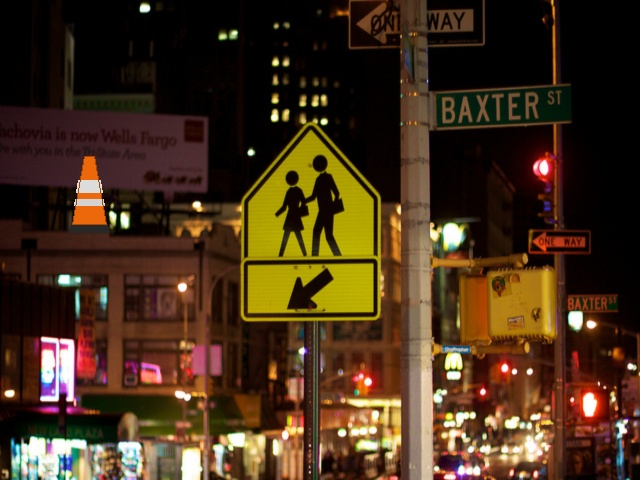traffic-cone: (69, 156, 109, 232)
